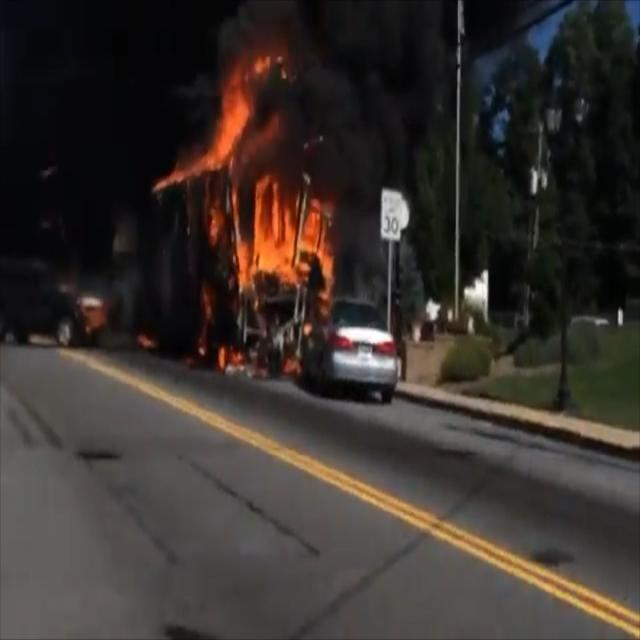fire: (158, 31, 340, 358)
